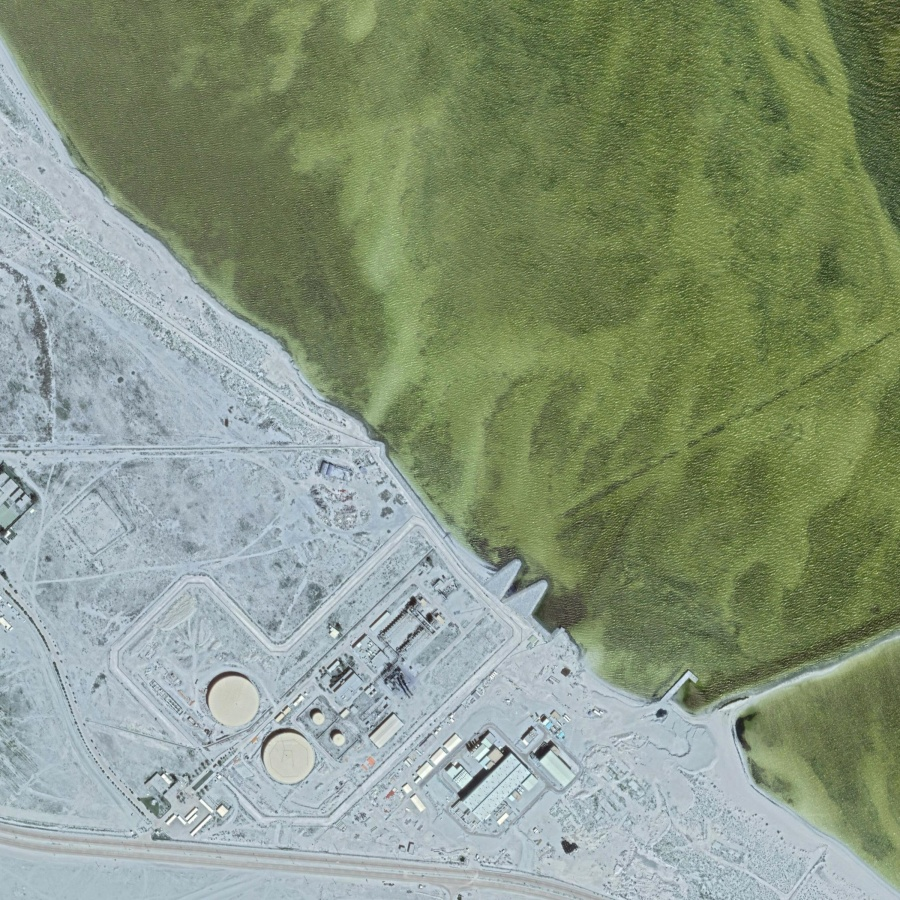PowerPlant: (185, 566, 590, 853)
